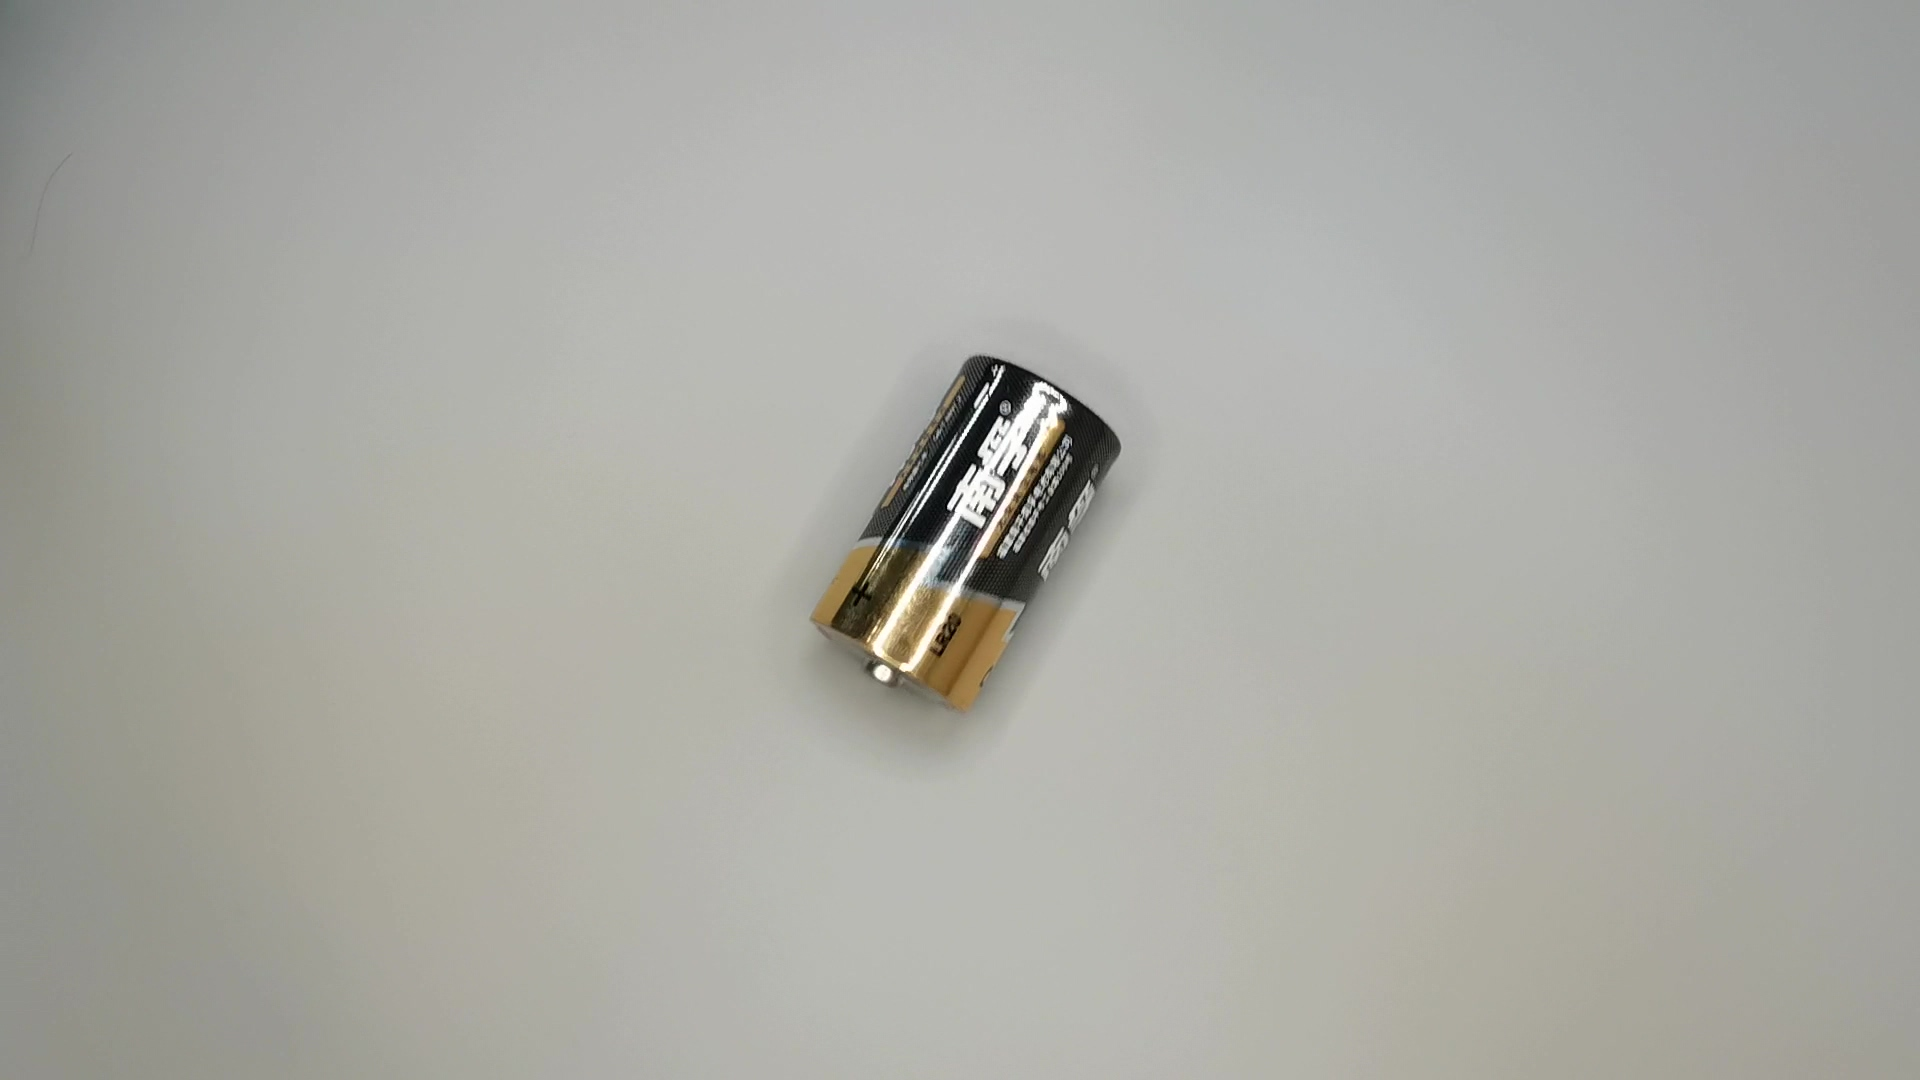battery: (804, 348, 1130, 720)
